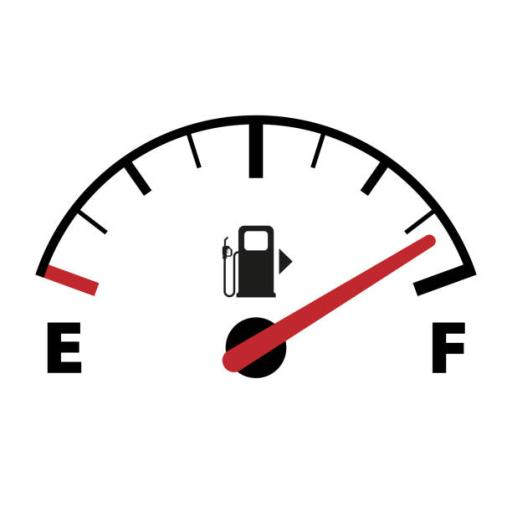empty: (40, 310, 90, 384)
fuel_icon: (204, 217, 299, 304)
full: (424, 316, 474, 384)
guage_area: (11, 11, 504, 492)
needle_center: (214, 318, 298, 388)
needle_tip: (396, 232, 448, 268)
